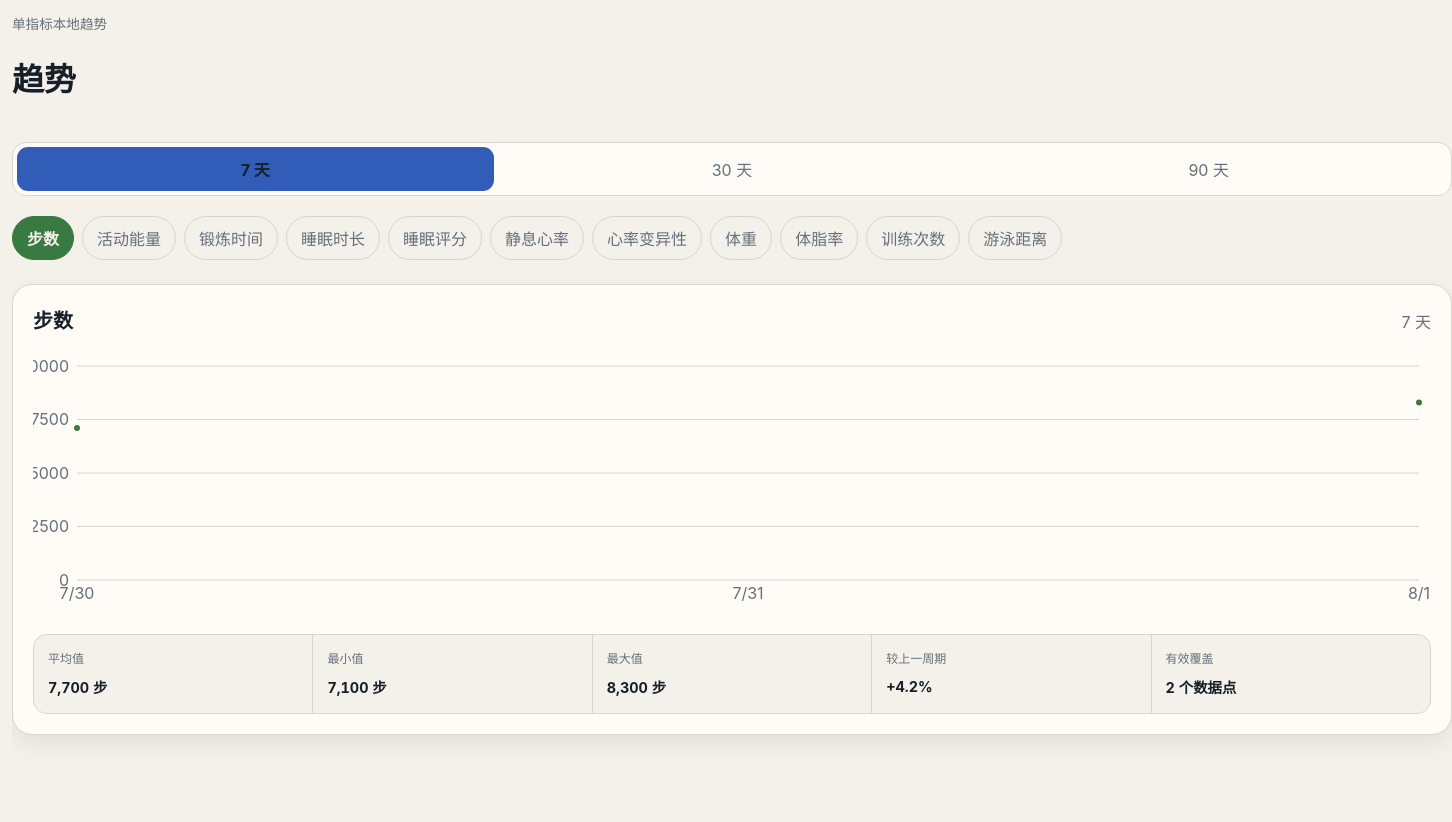
offers every approved single metric and reloads the selected metric
Click the button "体重". click: (741, 238)
box: x1=710 y1=216 x2=772 y2=260
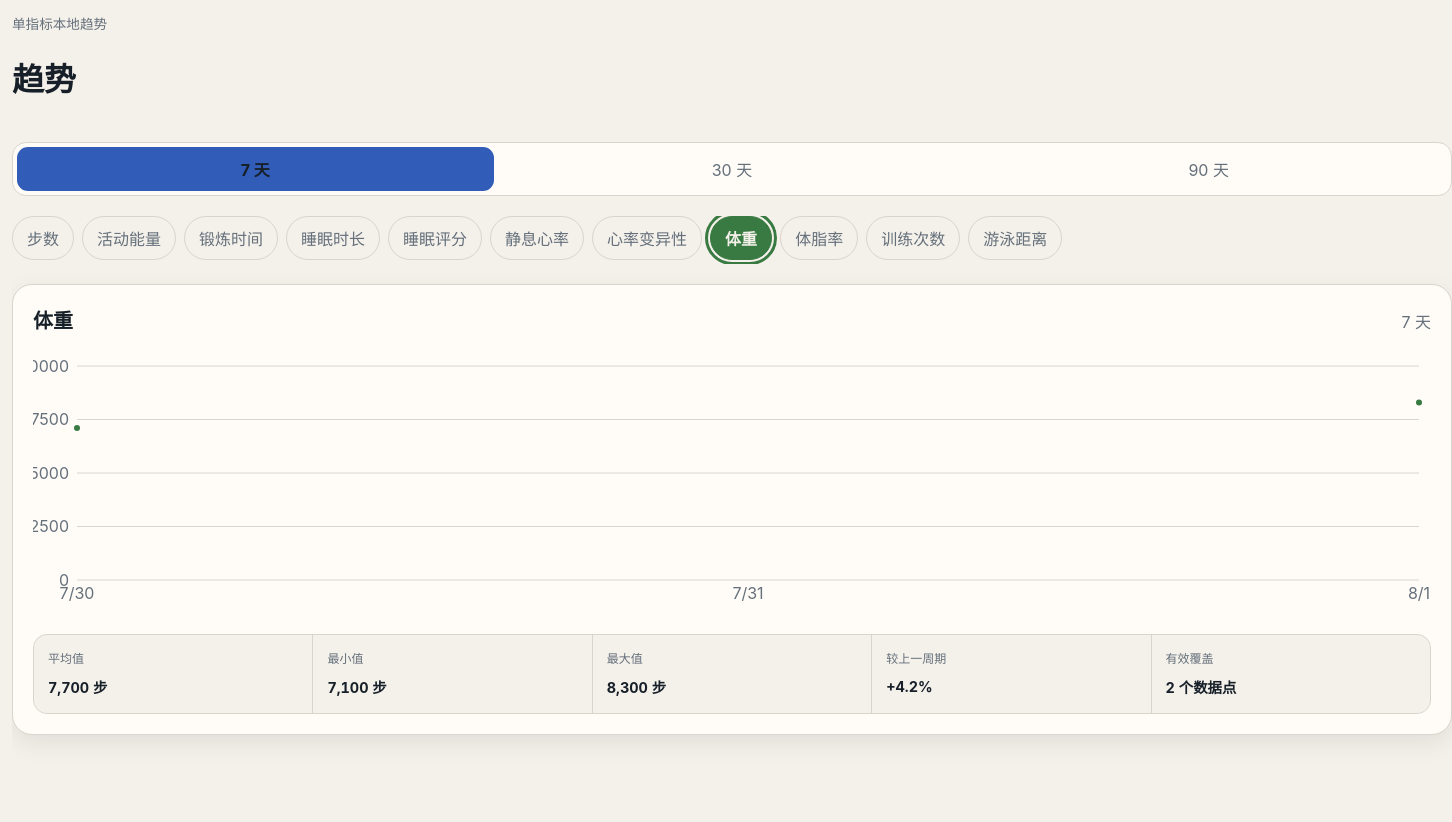
Check: the heading "体重" is shown, box x1=33 y1=305 x2=73 y2=334
